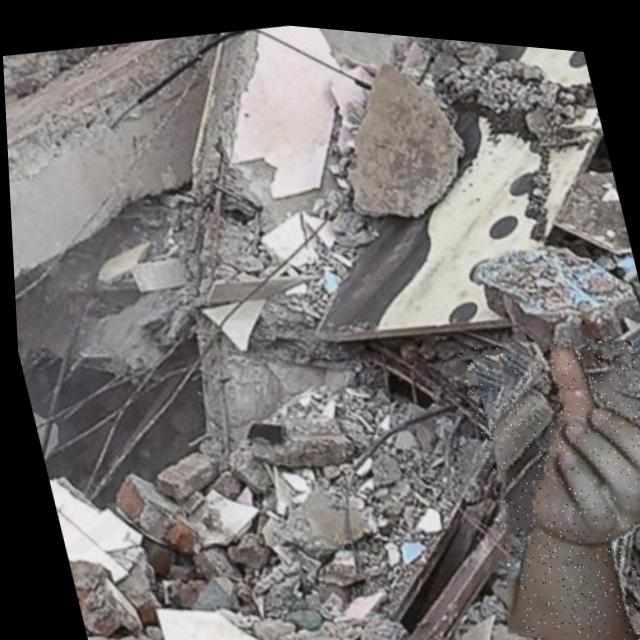Person in Rubble: (450, 305, 640, 640)
